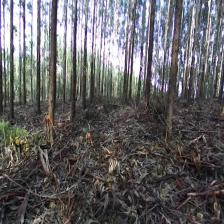trunk: (164, 18, 181, 131), (45, 35, 57, 136), (144, 14, 155, 103), (70, 5, 77, 120), (135, 36, 144, 105), (81, 21, 87, 109), (9, 39, 14, 120), (36, 47, 41, 114), (23, 58, 26, 105)
